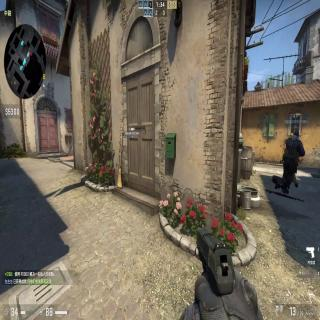CT-Body: (281, 130, 305, 195)
CT-Head: (293, 130, 299, 138)
